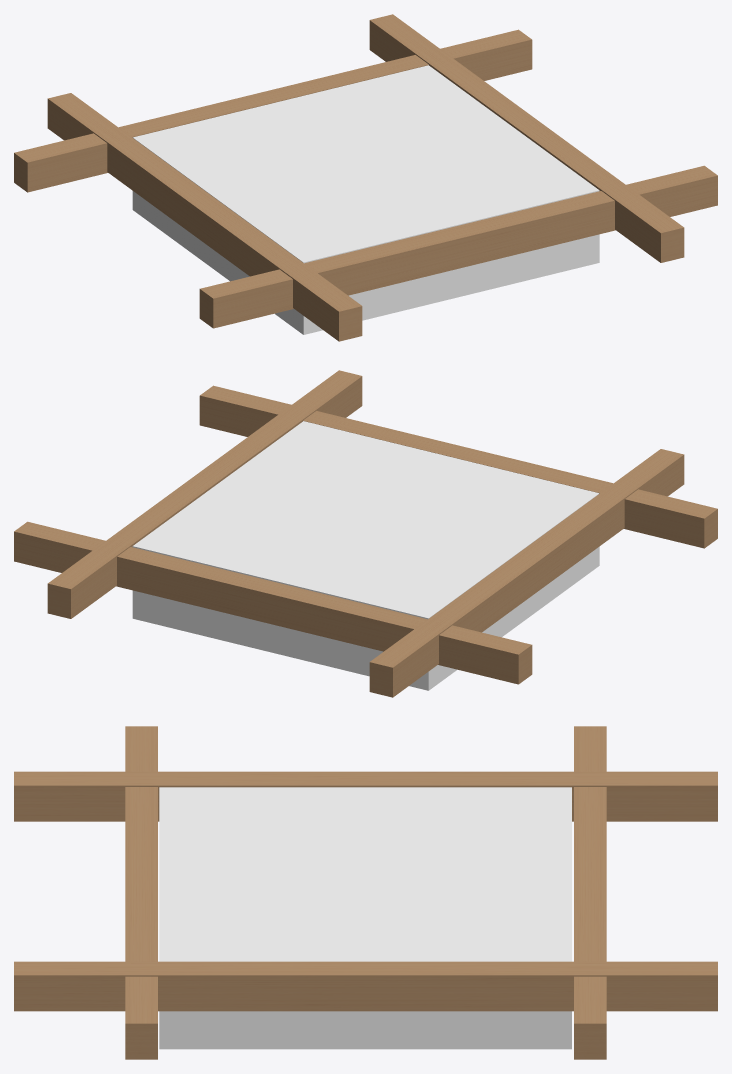
Rendered from M_xidingdeng03.FBX.
The picture shows the model from 3 angles, top to bottom: view 1: azimuth 30°, elevation 25°; view 2: azimuth 150°, elevation 25°; view 3: azimuth 270°, elevation 25°; orthographic projection. The views are drawn at different scales.
Visible parts, largest first — view 1: M_xidingdeng03_02, M_xidingdeng03_01; view 2: M_xidingdeng03_02, M_xidingdeng03_01; view 3: M_xidingdeng03_02, M_xidingdeng03_01.
Boxes of the visible parts, left/top/right/bottom form: M_xidingdeng03_02: left=132, top=65, right=599, bottom=334; M_xidingdeng03_01: left=14, top=14, right=717, bottom=341; M_xidingdeng03_02: left=132, top=421, right=599, bottom=690; M_xidingdeng03_01: left=14, top=370, right=717, bottom=697; M_xidingdeng03_02: left=159, top=787, right=571, bottom=1049; M_xidingdeng03_01: left=14, top=726, right=717, bottom=1059.
Size of the model in its own units: 2.79 by 0.3876 by 2.79.
